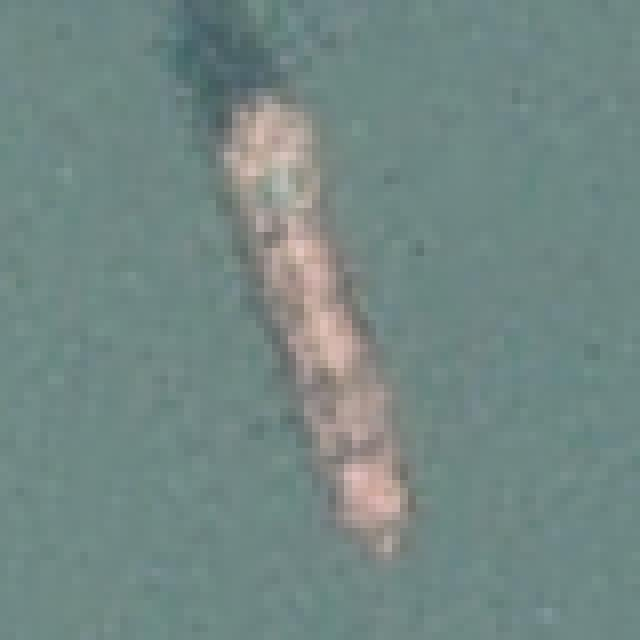ship: (151, 33, 512, 605)
